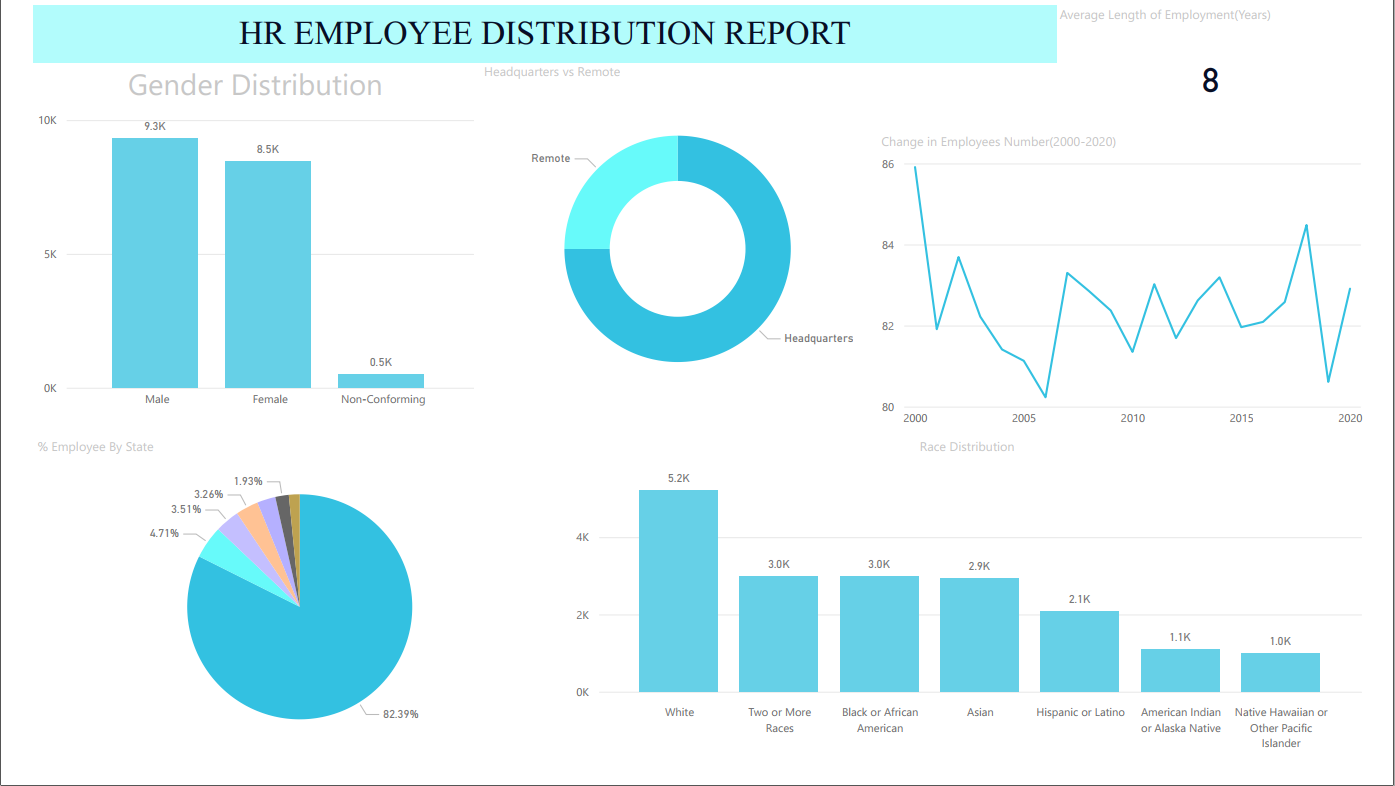

Layout of this report page (visuals, bound fields, positions):
{"tool":"powerbi","page":{"name":"Page 1","canvas":[1280,720],"ordinal":0},"visuals":[{"type":"textbox","box":[6.8,0,976.5,55.4],"z":0},{"type":"card","title":"Average Length of Employment(Years)","fields":{"Values":["Sum(avg_length_employment.avg_length_employment)"]},"box":[981.4,0,297.6,120.6],"z":1000},{"type":"columnChart","title":"Gender Distribution","fields":{"Y":["Sum(gender.count)"],"Category":["gender.gender"]},"box":[5.8,56.4,426,337.5],"z":2000},{"type":"donutChart","title":"Headquarters vs Remote","fields":{"Y":["Sum(location.count)"],"Category":["location.location"]},"box":[431.9,55.4,379.3,338.5],"z":3000},{"type":"lineChart","title":"Change in Employees Number(2000-2020)","fields":{"Y":["Sum(employee_change.net_change_percent)"],"Category":["employee_change.year"]},"box":[811.2,120.6,468.8,291.8],"z":4000},{"type":"pieChart","title":"% Employee By State","fields":{"Y":["Sum(state.count)"],"Category":["state.location_state"]},"box":[5.8,412.4,510.6,307.4],"z":5000},{"type":"columnChart","title":"Race Distribution","fields":{"Y":["Sum(race.count)"],"Category":["race.race"]},"box":[517.4,412.4,761.6,306.4],"z":6000}]}

Visuals, with their boxes in screenshot pixels (x1, y1, x2, y2), scaled from the page's 1280x720 canvas onto the 1395x786 screenshot:
textbox: <box>7,0,1072,60</box>
"Average Length of Employment(Years)" card: <box>1070,0,1394,132</box>
"Gender Distribution" columnChart: <box>6,62,471,430</box>
"Headquarters vs Remote" donutChart: <box>471,60,884,430</box>
"Change in Employees Number(2000-2020)" lineChart: <box>884,132,1394,450</box>
"% Employee By State" pieChart: <box>6,450,563,785</box>
"Race Distribution" columnChart: <box>564,450,1394,785</box>
